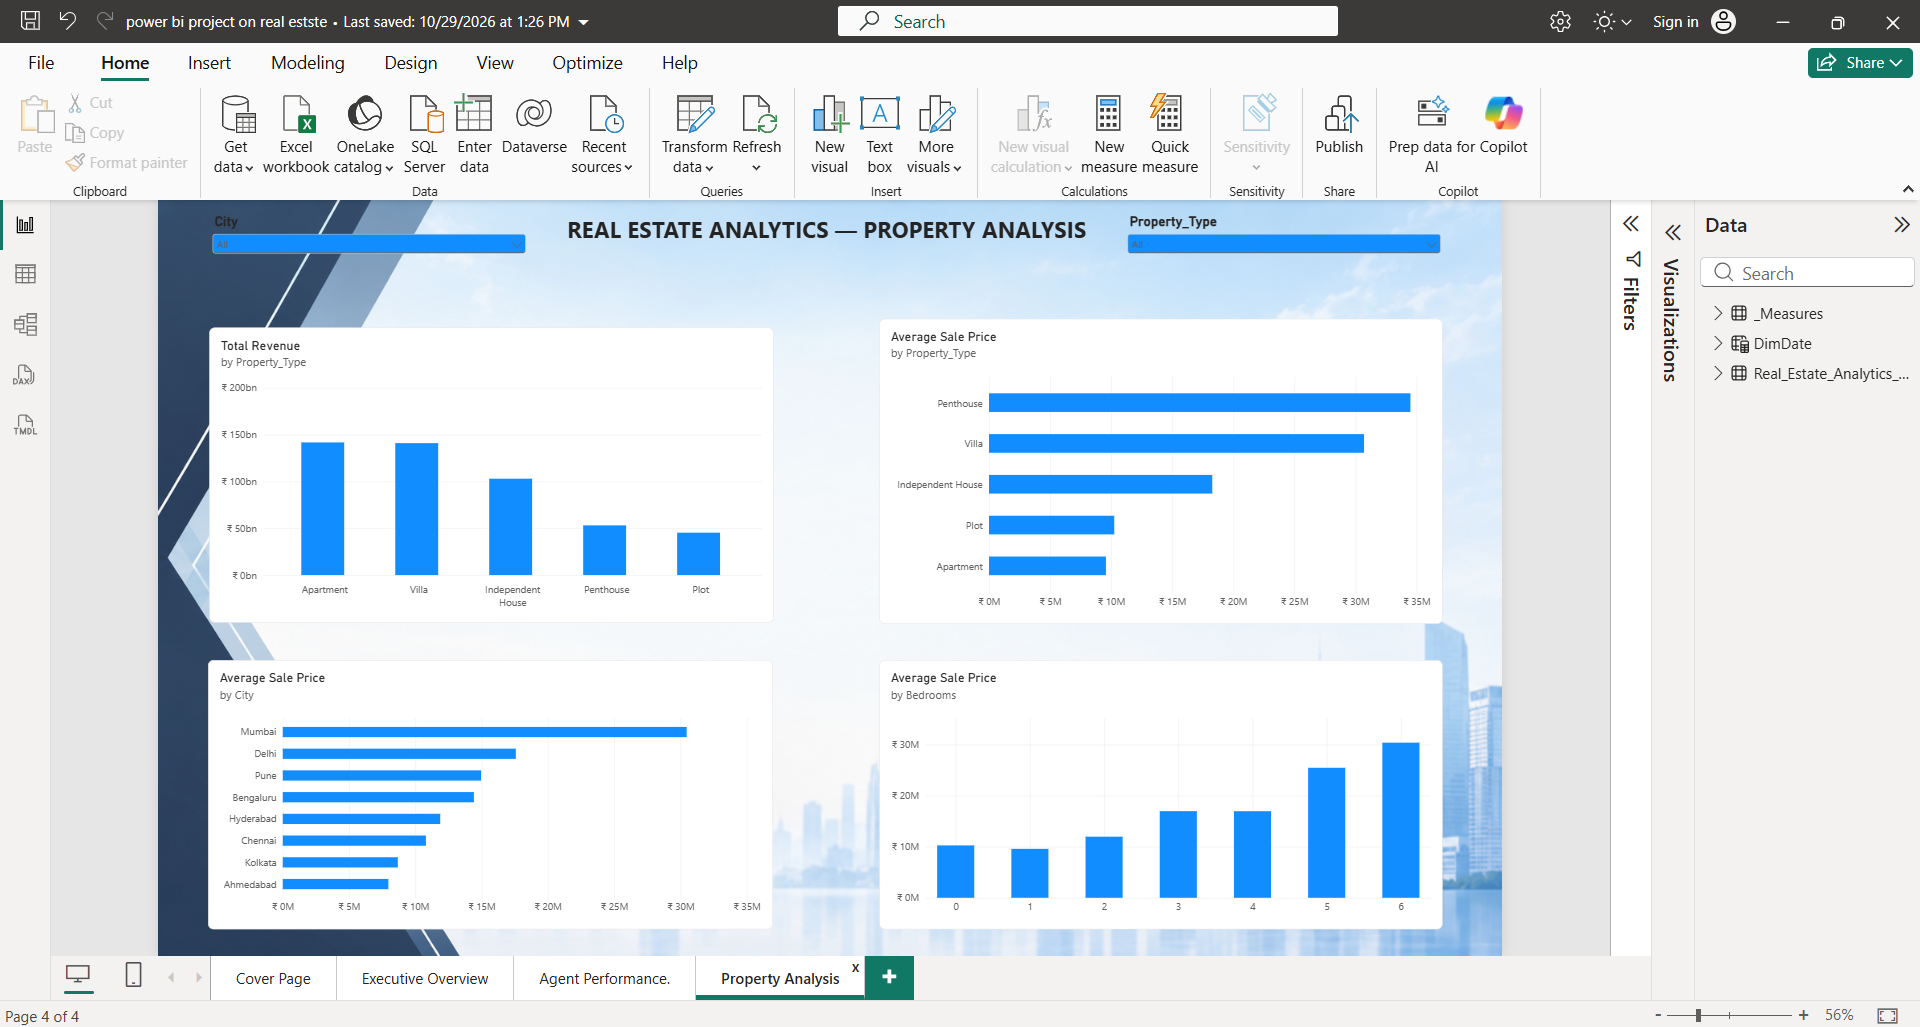

The dashboard page shown, as its layout file describes it:
{"tool":"powerbi","page":{"name":"Property Analysis","canvas":[1920,1080],"ordinal":3},"visuals":[{"type":"clusteredColumnChart","fields":{"Category":["Real_Estate_Analytics_50000.Property_Type"],"Y":["_Measures.Total Revenue"]},"box":[72.5,182.4,806.4,421.9],"z":0},{"type":"clusteredBarChart","fields":{"Category":["Real_Estate_Analytics_50000.Property_Type"],"Y":["_Measures.Average Sale Price"]},"box":[1031.2,168.8,804.8,436.4],"z":1},{"type":"clusteredBarChart","fields":{"Category":["Real_Estate_Analytics_50000.City"],"Y":["_Measures.Average Sale Price"]},"box":[72,656.6,806.9,384.9],"z":2},{"type":"clusteredColumnChart","fields":{"Category":["Real_Estate_Analytics_50000.Bedrooms"],"Y":["_Measures.Average Sale Price"]},"box":[1031.2,656.6,804.8,384.9],"z":3},{"type":"slicer","fields":{"Values":["Real_Estate_Analytics_50000.Property_Type"]},"box":[1379.9,19.8,457,131.8],"z":4},{"type":"slicer","fields":{"Values":["Real_Estate_Analytics_50000.City"]},"box":[72.5,19.8,457,169.2],"z":5},{"type":"textbox","box":[529.6,19.8,850.4,65.9],"z":7}]}

Visuals, with their boxes on the page's 1920x1080 design canvas (x1, y1, x2, y2). These are canvas units, not pixel positions in the 1920x1027 screenshot, which may show the page scaled, cropped or inside an application window:
clusteredColumnChart - Real_Estate_Analytics_50000.Property_Type x _Measures.Total Revenue: [72, 182, 879, 604]
clusteredBarChart - Real_Estate_Analytics_50000.Property_Type x _Measures.Average Sale Price: [1031, 169, 1836, 605]
clusteredBarChart - Real_Estate_Analytics_50000.City x _Measures.Average Sale Price: [72, 657, 879, 1042]
clusteredColumnChart - Real_Estate_Analytics_50000.Bedrooms x _Measures.Average Sale Price: [1031, 657, 1836, 1042]
slicer - Real_Estate_Analytics_50000.Property_Type: [1380, 20, 1837, 152]
slicer - Real_Estate_Analytics_50000.City: [72, 20, 530, 189]
textbox: [530, 20, 1380, 86]
